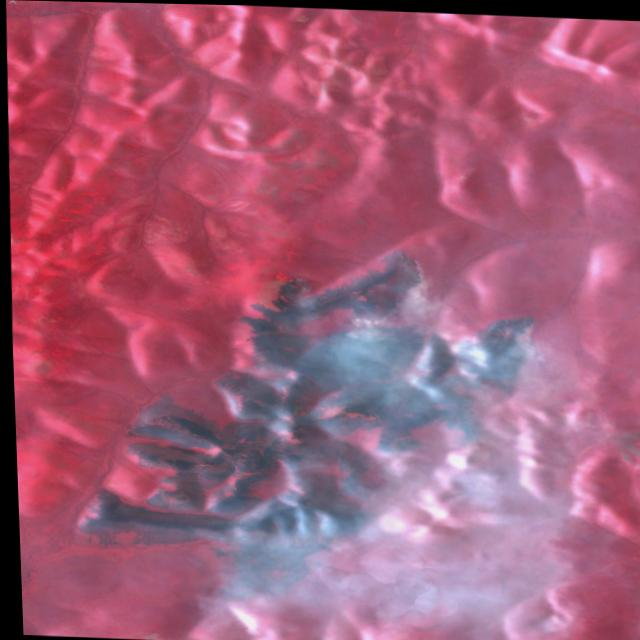fire: (345, 255, 432, 328)
